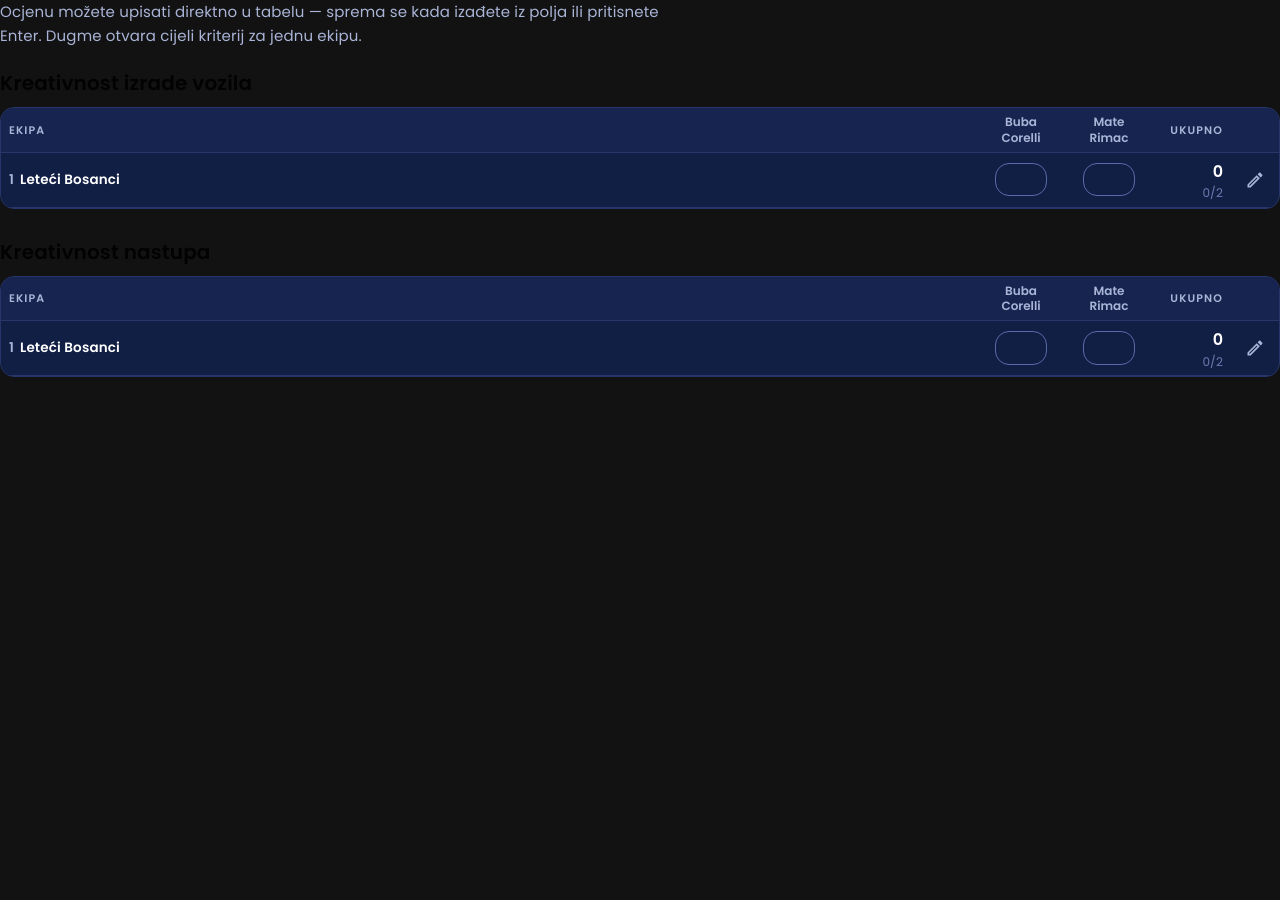
ScoresTab › cancels without writing anything
Click the button named "Kreativnost izrade vozila — Leteći Bosanci": (1255, 180) x1=1239 y1=164 x2=1271 y2=196
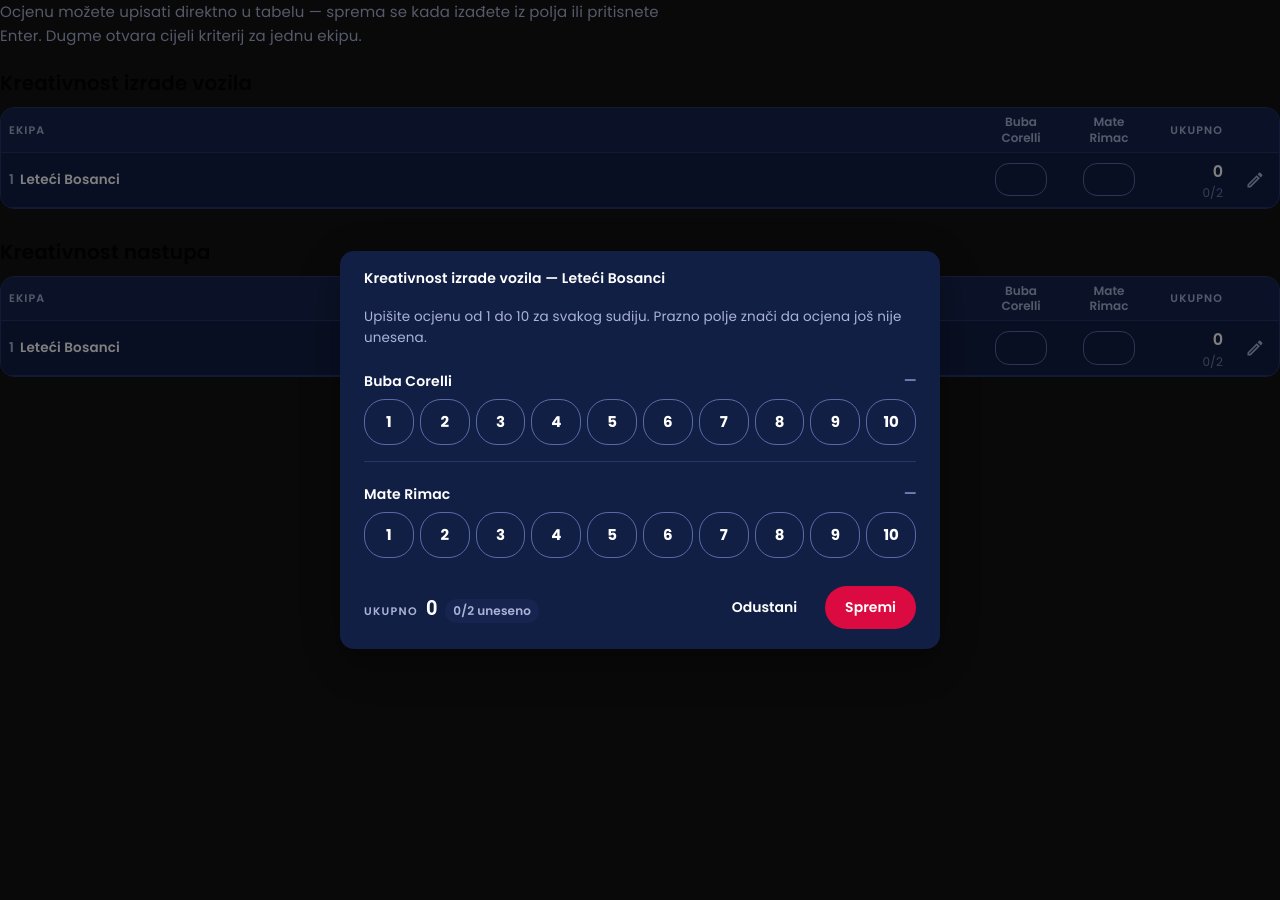
Click the button "Odustani": (764, 608) x1=712 y1=586 x2=817 y2=629
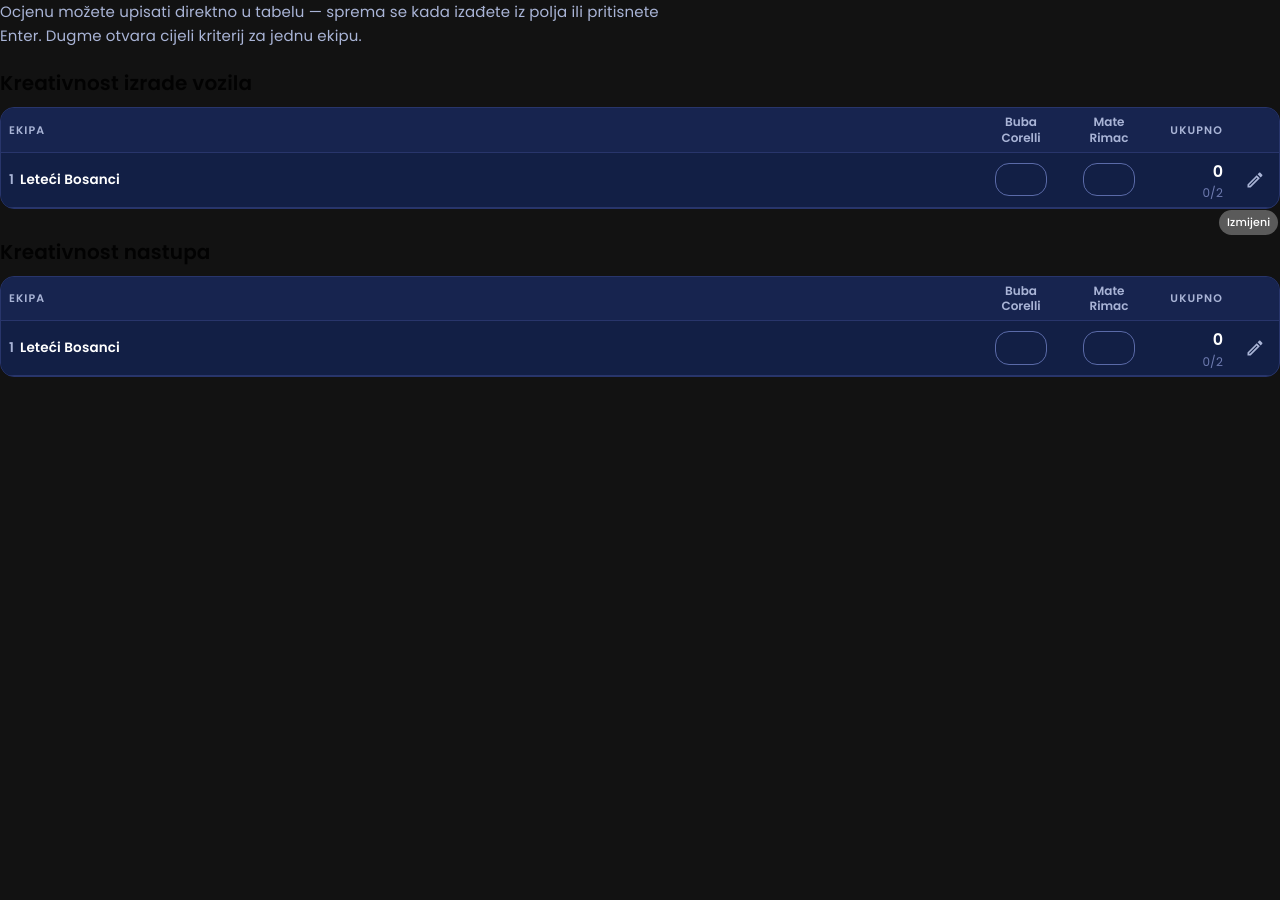
Now the dialog is gone
